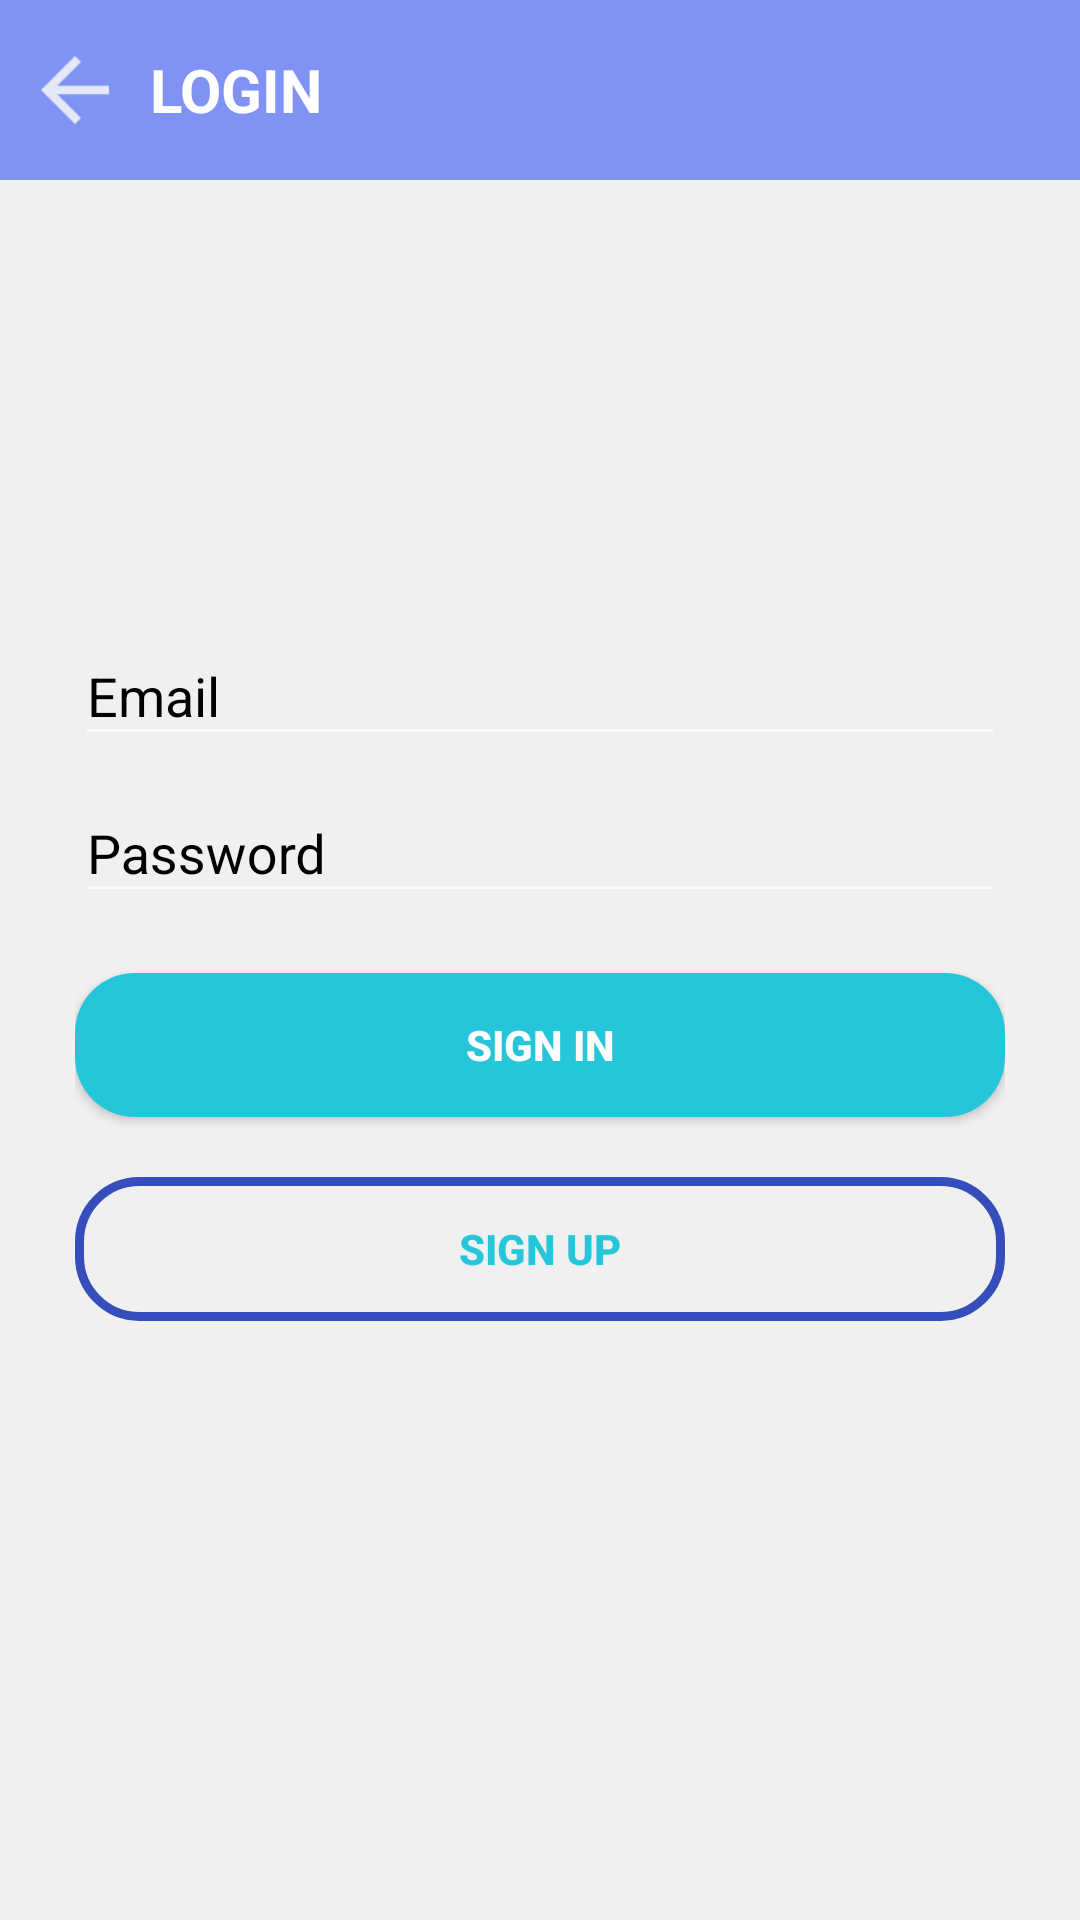

Icon click points for this 1080×1920 phone screenshot, format point (x, y):
arroww: point (75, 90)
